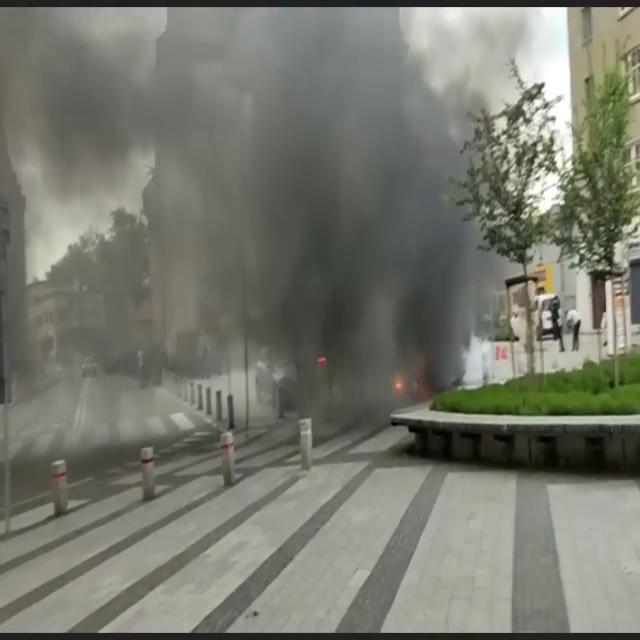Smoke: (0, 3, 505, 418)
